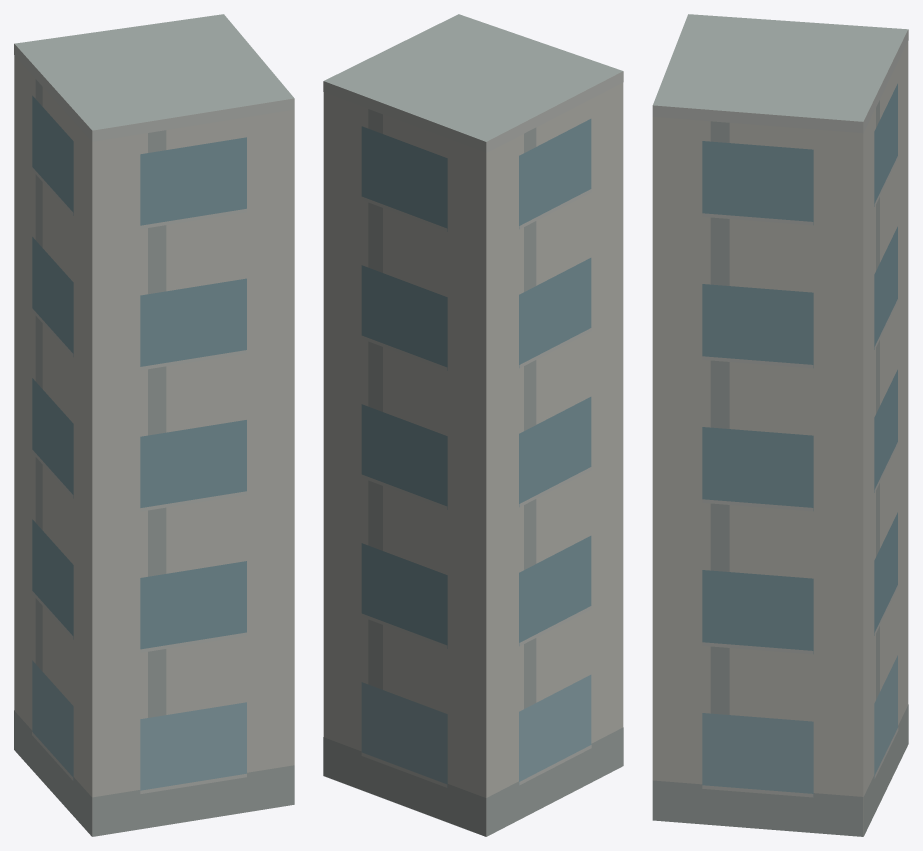
Rendered from survey-upis-32697086.glb.
3 renders of one model, left to right at view 1: azimuth 30°, elevation 25°; view 2: azimuth 150°, elevation 25°; view 3: azimuth 270°, elevation 25°, orthographic. The views are drawn at different scales.
Parts seen in each view (by area): view 1: survey-upis-32697086.tmp; view 2: survey-upis-32697086.tmp; view 3: survey-upis-32697086.tmp.
Boxes of the visible parts, x1=… form: survey-upis-32697086.tmp: x1=14, y1=14, x2=294, y2=836; survey-upis-32697086.tmp: x1=323, y1=14, x2=623, y2=836; survey-upis-32697086.tmp: x1=652, y1=14, x2=908, y2=836.
Size of the model in its own units: 4.94 by 15.25 by 4.95.
